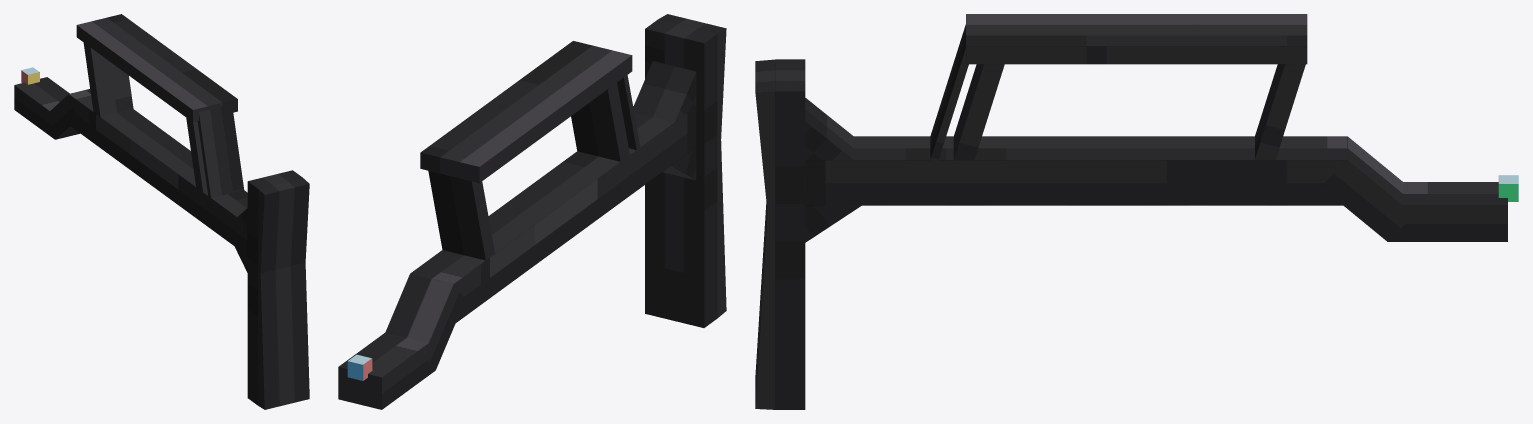
File: glock stock.obj
The picture shows the model from 3 angles, left to right: view 1: azimuth 30°, elevation 25°; view 2: azimuth 150°, elevation 25°; view 3: azimuth 270°, elevation 25°; orthographic projection. The views are drawn at different scales.
Parts seen in each view (by area): view 1: stock_12, _ca_stock_1; view 2: stock_12, _ca_stock_1; view 3: stock_12.
Boxes of the visible parts, x1=… form: stock_12: x1=14, y1=14, x2=309, y2=409; _ca_stock_1: x1=21, y1=67, x2=39, y2=84; stock_12: x1=338, y1=14, x2=726, y2=409; _ca_stock_1: x1=347, y1=354, x2=372, y2=380; stock_12: x1=755, y1=14, x2=1507, y2=409.
Size of the model in its own units: 0.2373 by 1.25 by 2.38.
